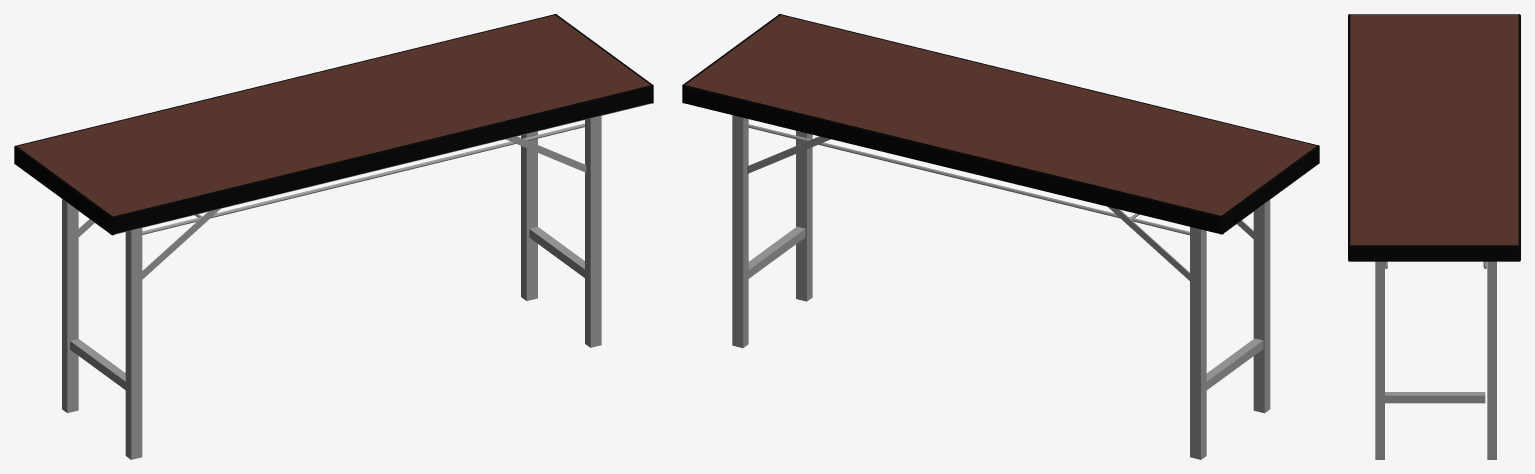
File: desk03.fbx
3 views of the same model, side by side, from view 1: azimuth 30°, elevation 25°; view 2: azimuth 150°, elevation 25°; view 3: azimuth 270°, elevation 25° (orthographic). The views are drawn at different scales.
Parts seen in each view (by area): view 1: pCylinder12; view 2: pCylinder12; view 3: pCylinder12.
Part boxes in pixels (x1=…): pCylinder12: x1=14, y1=14, x2=653, y2=459; pCylinder12: x1=682, y1=14, x2=1319, y2=459; pCylinder12: x1=1348, y1=14, x2=1520, y2=459.
Size of the model in its own units: 1.51 by 0.6943 by 0.4736.
